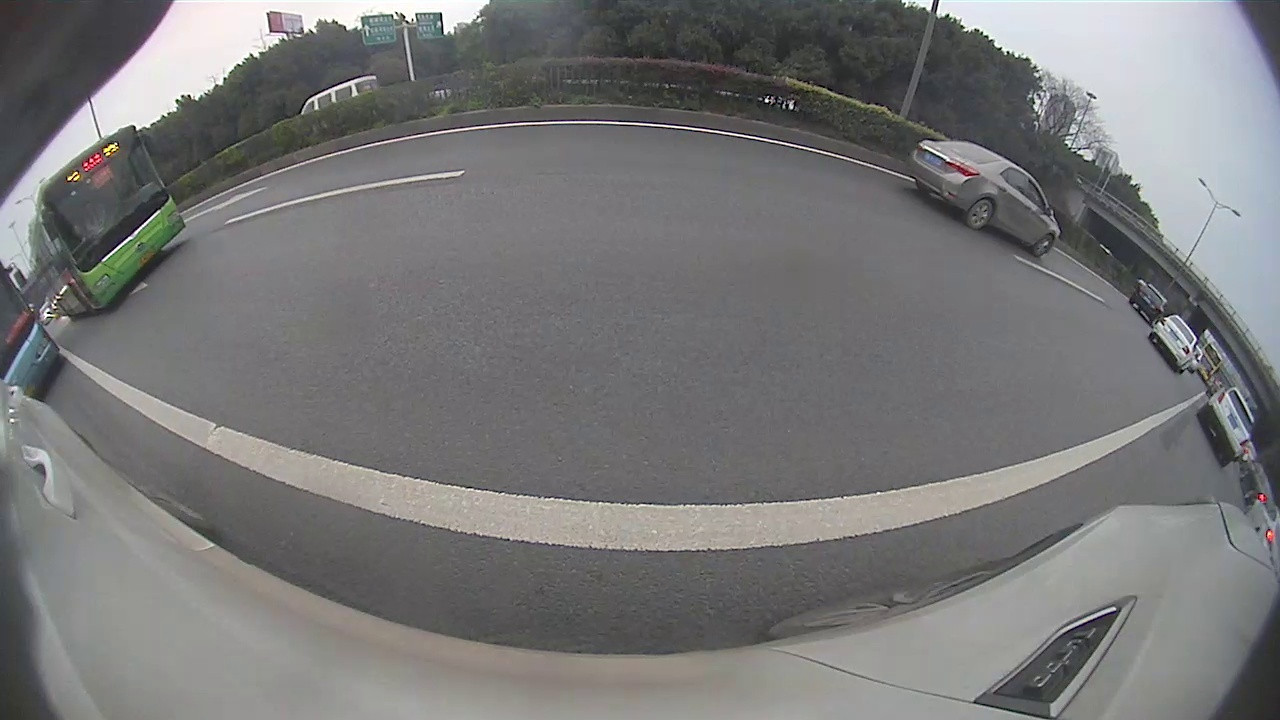bus: (20, 124, 184, 321)
car: (908, 137, 1062, 258), (1196, 385, 1255, 467), (1148, 314, 1203, 373), (1129, 281, 1167, 325)
front: (1026, 232, 1056, 261)
rear: (961, 196, 998, 235)
